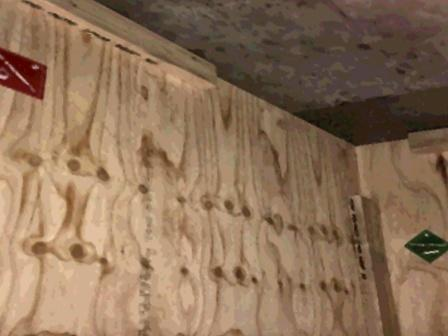flammable: (1, 36, 52, 102), (400, 225, 448, 267)
